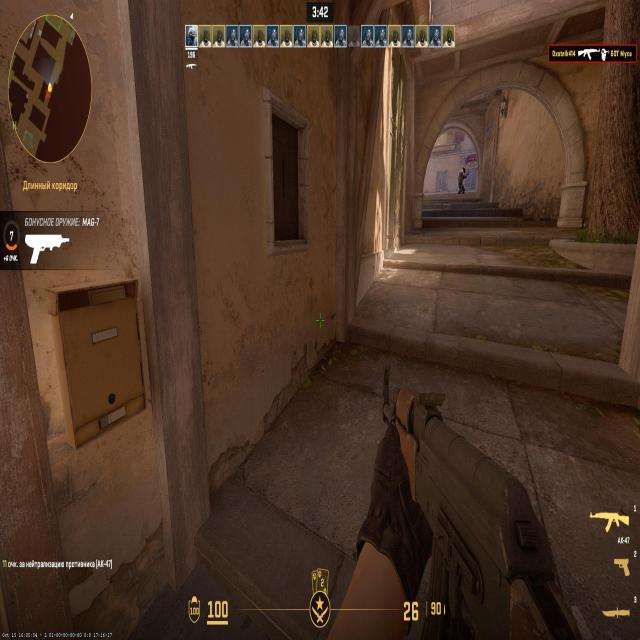CT: (460, 166, 466, 192)
CT_heat: (460, 172, 466, 179)
